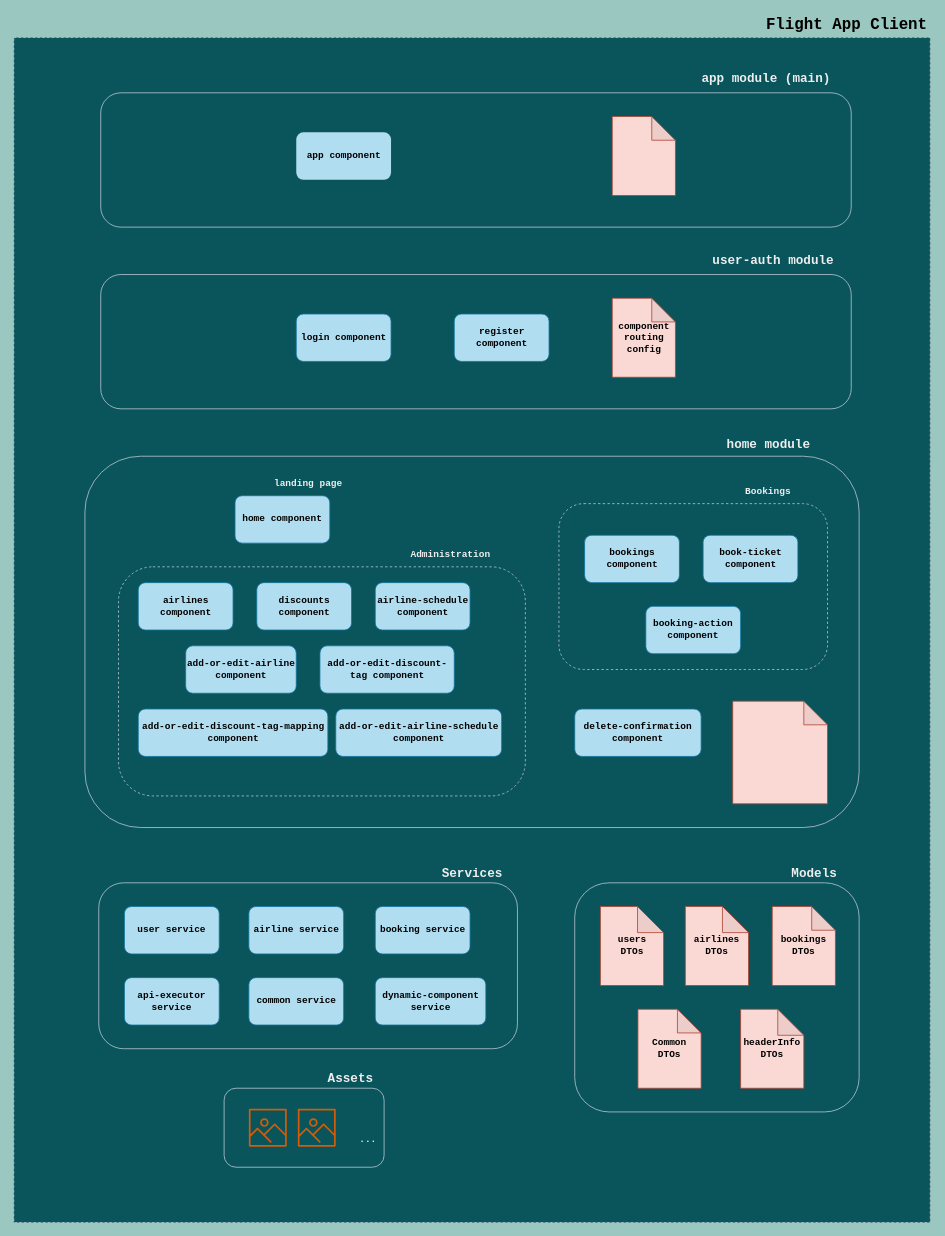
The diagram is 945 pixels wide and 1236 high, and some of its shapes have lost their labels. The centre of each missing label's shape, as x and y in pixels:
"component routing config (only for home component)" belongs at pixel 780 752.
"module routing config" belongs at pixel 643 156.
